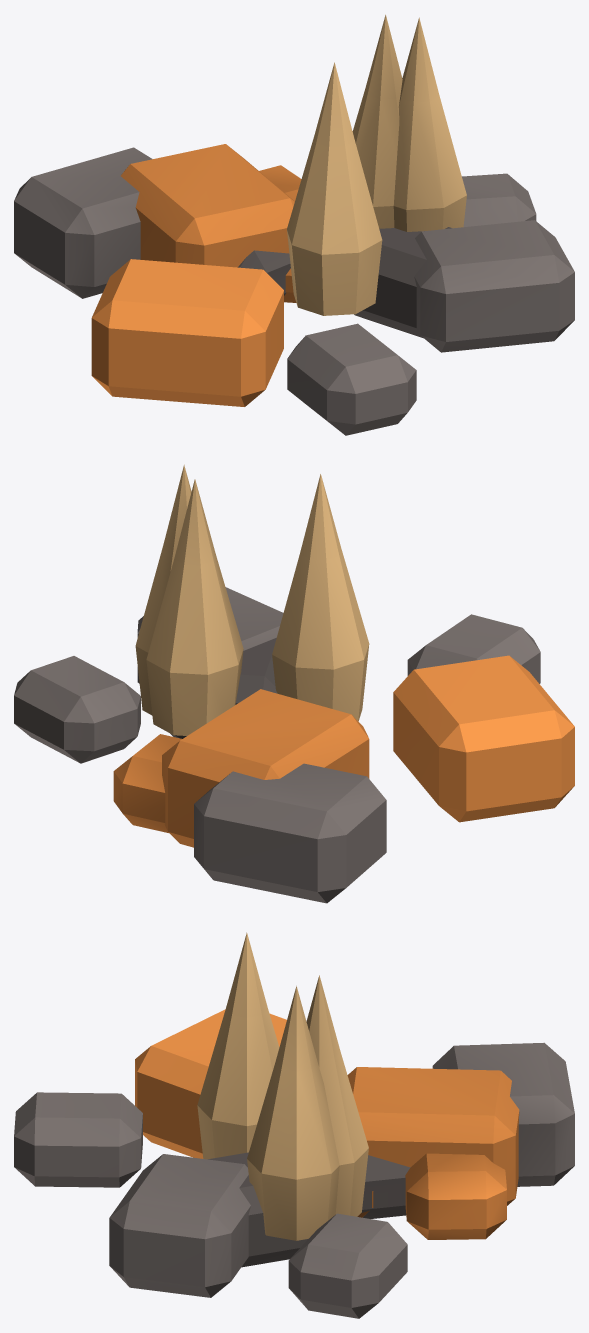
The model's file is dngp_embers.glb.
3 views of the same model, one above another, from view 1: azimuth 30°, elevation 25°; view 2: azimuth 150°, elevation 25°; view 3: azimuth 270°, elevation 25° (orthographic).
Visible parts, largest first — view 1: ember_flame; view 2: ember_flame; view 3: ember_flame.
Part boxes in pixels (box(x1,y1,x2,y2)): ember_flame: box(14, 14, 574, 435); ember_flame: box(14, 464, 574, 903); ember_flame: box(14, 932, 574, 1318).
Size of the model in its own units: 0.7942 by 0.4332 by 0.7925.
